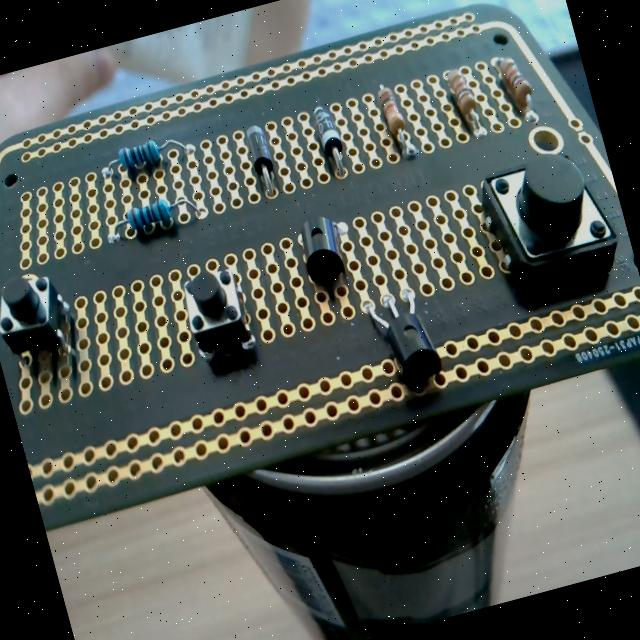diode: (309, 101, 351, 180), (243, 122, 282, 201)
resistor: (104, 188, 205, 244), (98, 129, 196, 185), (374, 82, 418, 164), (492, 51, 540, 126), (444, 64, 487, 140)
switch: (468, 140, 625, 304), (174, 258, 260, 367), (0, 263, 81, 375)
transistor: (361, 283, 443, 392), (294, 210, 352, 288)
